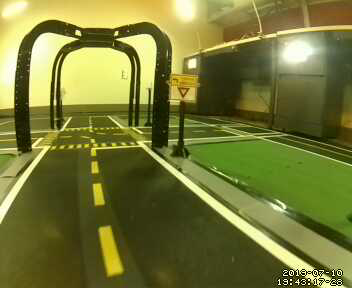Turn Yield: (168, 73, 199, 105)
